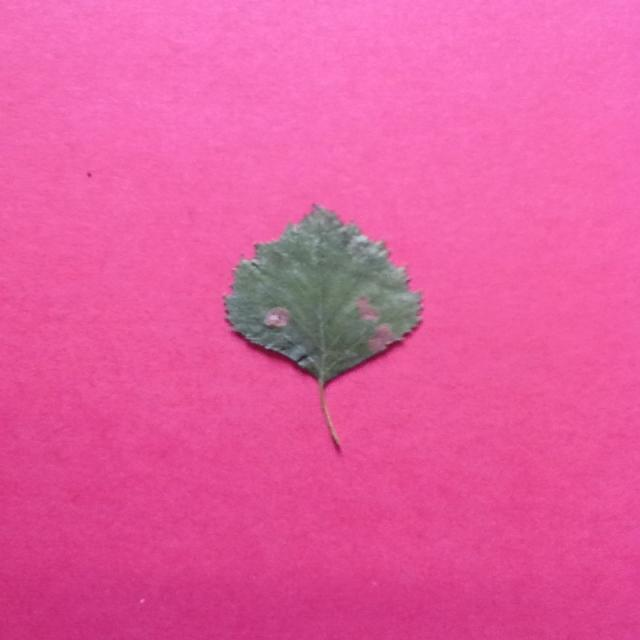foliage: (213, 201, 427, 460)
